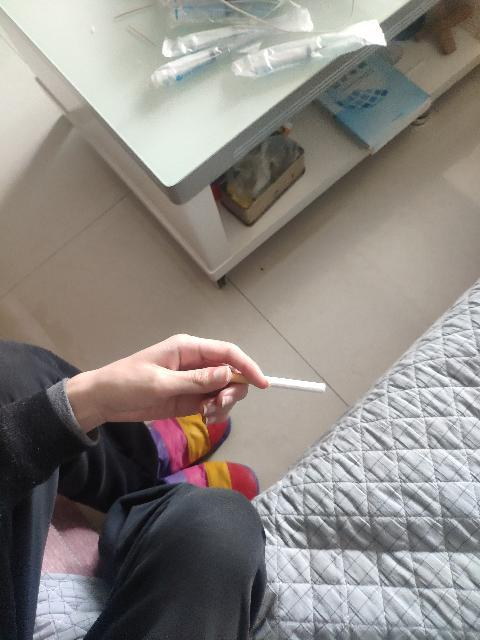Smoking: (225, 373, 327, 392)
